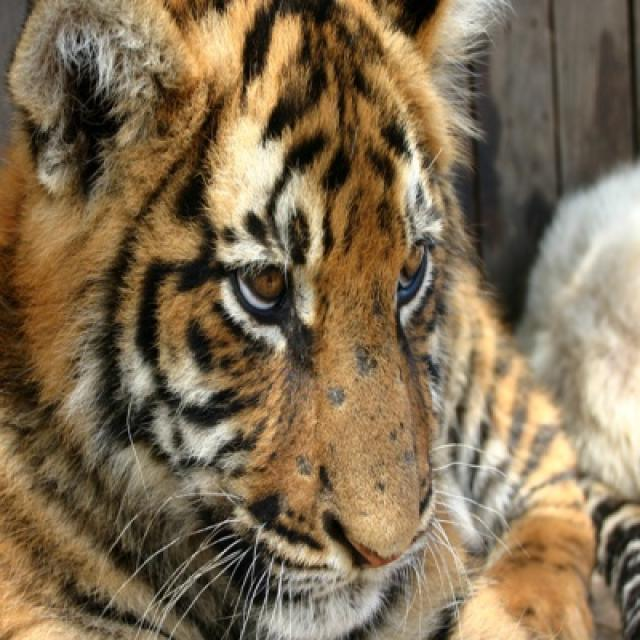Tiger: (2, 0, 613, 638)
